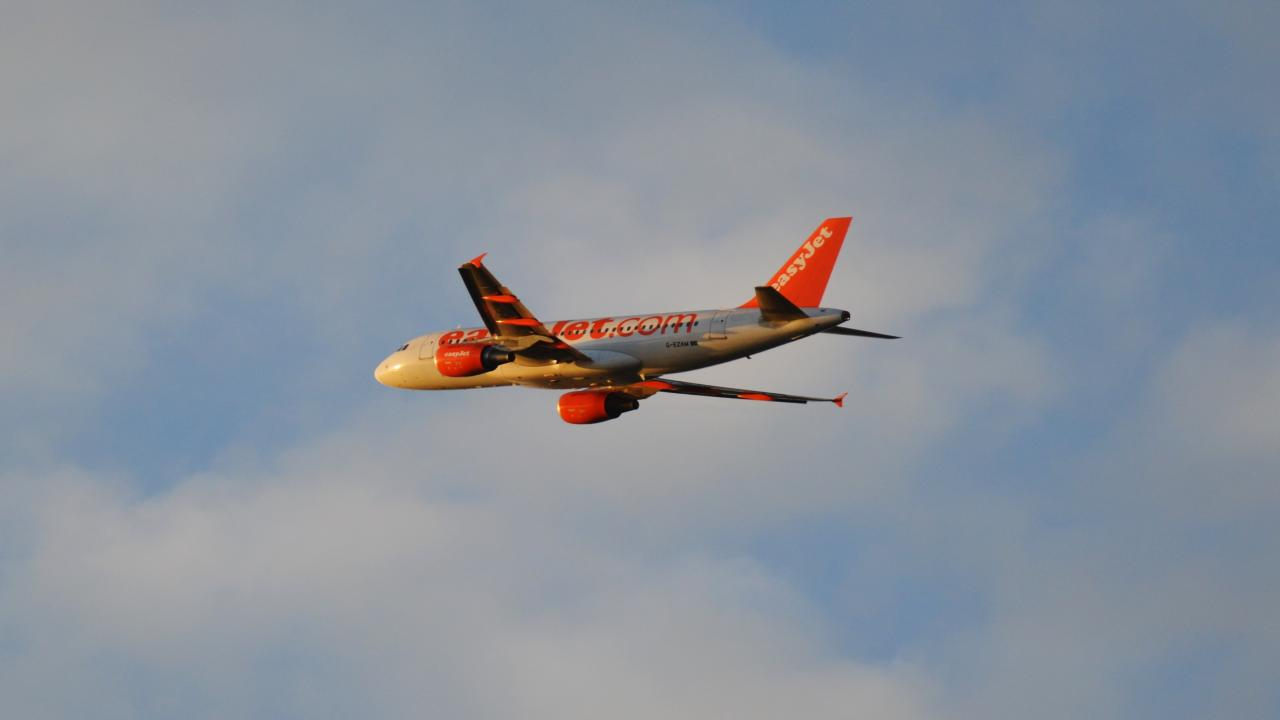Airplane: (362, 201, 912, 438)
